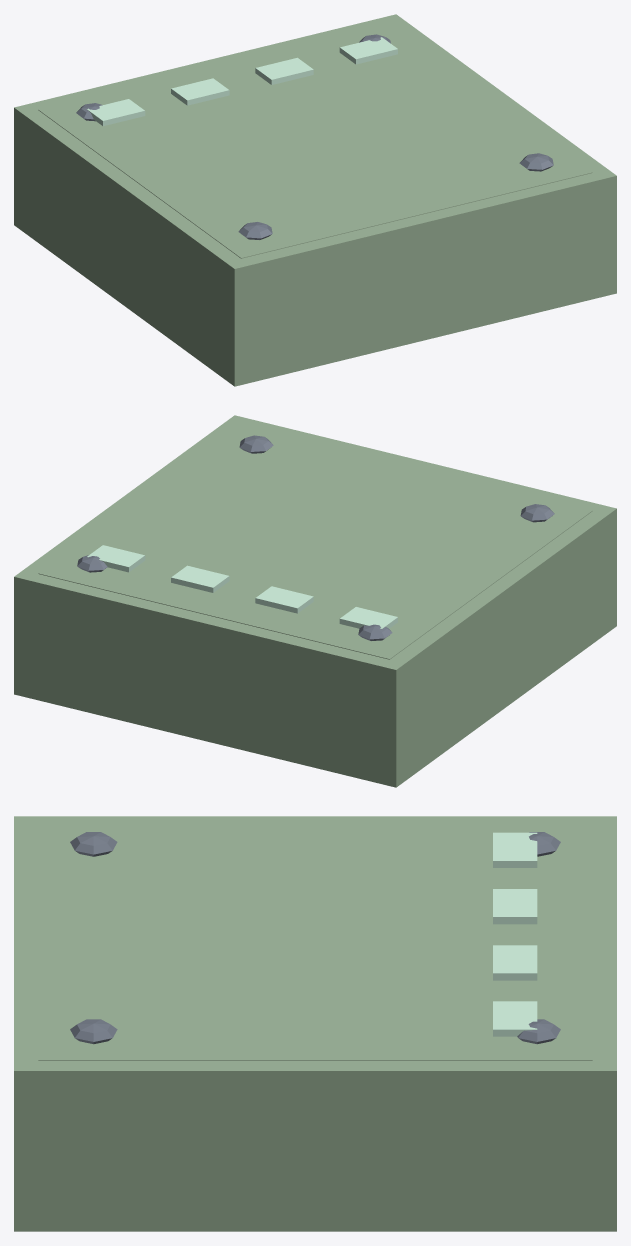
File: losa_meta.glb
The picture shows the model from 3 angles, top to bottom: view 1: azimuth 30°, elevation 25°; view 2: azimuth 150°, elevation 25°; view 3: azimuth 270°, elevation 25°; orthographic projection. The views are drawn at different scales.
Parts seen in each view (by area): view 1: losa_meta; view 2: losa_meta; view 3: losa_meta.
Part boxes in pixels (x1,y1,x2,y2): losa_meta: (14,14,616,386); losa_meta: (14,415,616,787); losa_meta: (14,816,616,1231).
Bounding box in the file's own units: 1.36 × 0.434 × 1.36.
